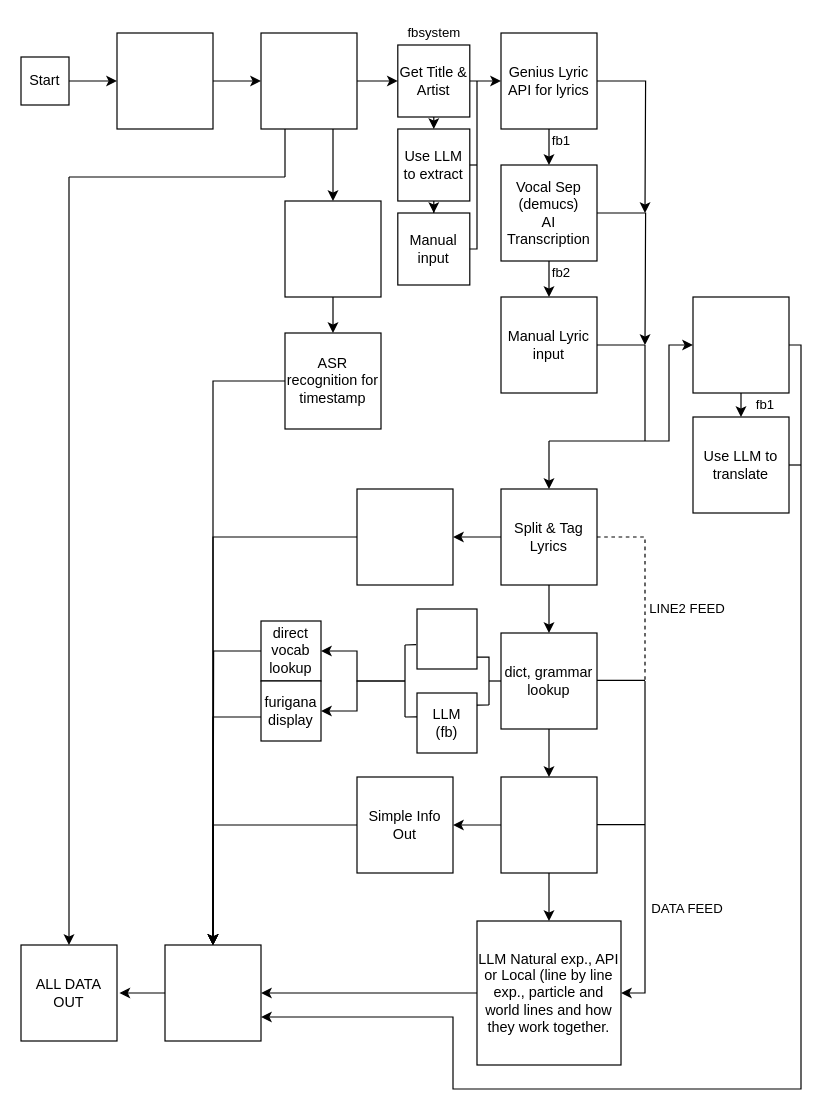
Some shapes in this 832 by 1120 pixel diagram are drawn without their labels. The shapes that lost their labels are listed below. From the top down, each one's centre as x and y in pixels, then its label:
(x=164, y=80): Song Input (YT/UPL)
(x=308, y=80): Fetch Audio (+VIDEO) file with title and artist
(x=332, y=248): Demucs vocal seperation
(x=740, y=344): English Translation using GENIUS
(x=404, y=536): line & tag display
(x=446, y=638): jisho
(x=548, y=824): grammar pharsing
(x=212, y=992): JSON OUT
